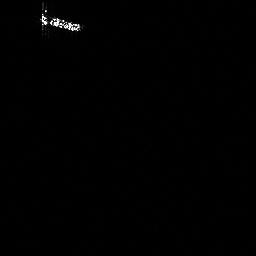ship: (37, 4, 84, 36)
